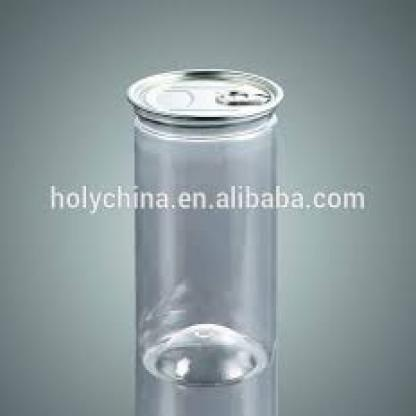trash: (127, 69, 283, 415)
